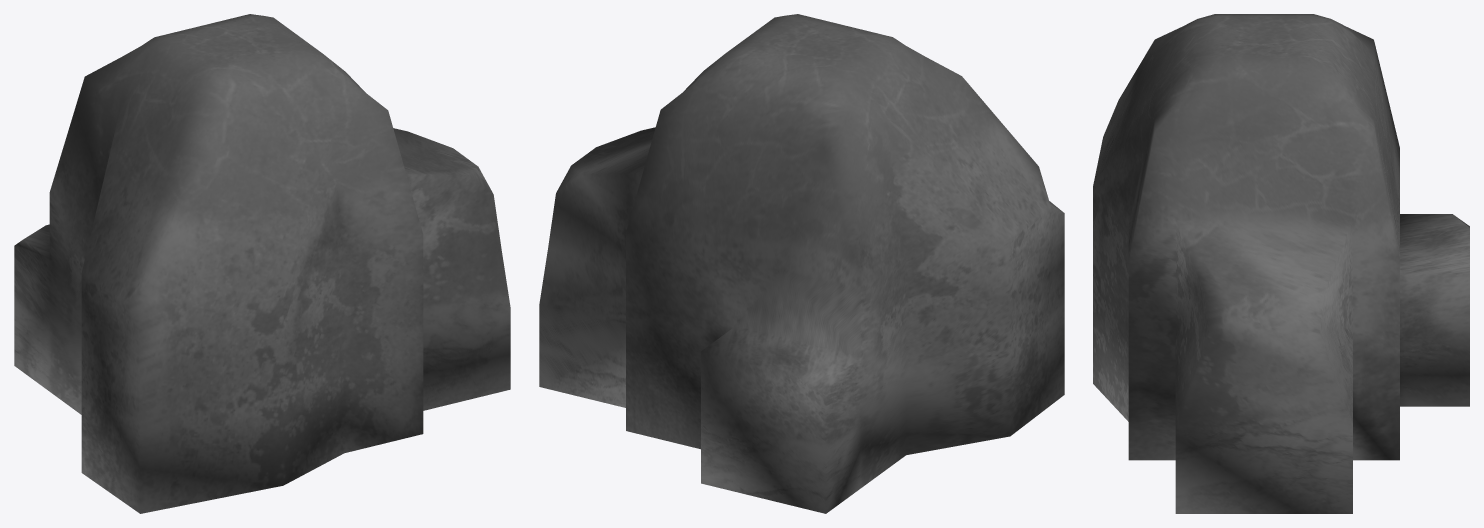
The model's file is Stone.fbx.
The picture shows the model from 3 angles, left to right: view 1: azimuth 30°, elevation 25°; view 2: azimuth 150°, elevation 25°; view 3: azimuth 270°, elevation 25°; orthographic projection.
Parts seen in each view (by area): view 1: Stone:Stone1; view 2: Stone:Stone1; view 3: Stone:Stone1.
Part boxes in pixels (left/top/right/bottom): Stone:Stone1: left=14, top=14, right=510, bottom=513; Stone:Stone1: left=539, top=14, right=1064, bottom=513; Stone:Stone1: left=1093, top=14, right=1469, bottom=513.
Size of the model in its own units: 1.72 by 1.49 by 1.39.
Materials: 1 (1 with a texture image).
